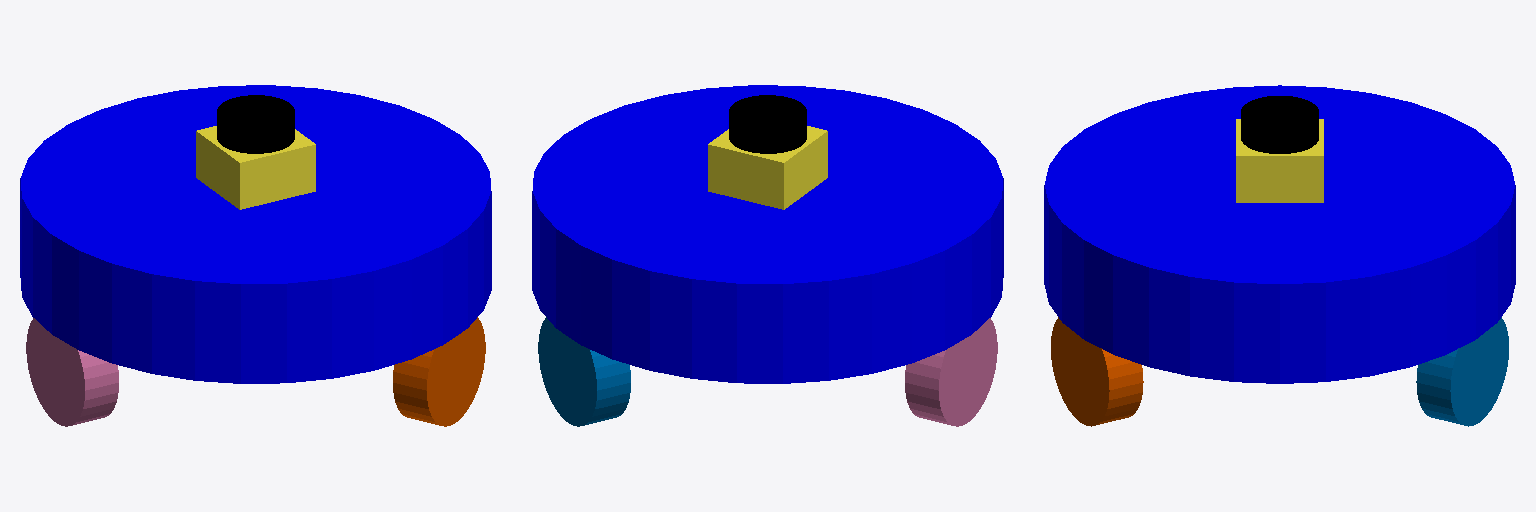
robot.urdf — lilybot:
<?xml version="1.0"?>
<robot name="lilybot">

    <link name="base_footprint"/>

    <link name="base_link">
        <visual>
            <geometry>
                <cylinder radius="0.15" length="0.07"/>
            </geometry>
            <material name="blue">
                <color rgba="0 0 1 1"/>
            </material>
        </visual>
    </link>

    <joint name="base_joint" type="fixed">
        <parent link="base_footprint"/>
        <child link="base_link"/>
        <origin xyz="0 0 0.0976" rpy="0 0 0"/>
    </joint>

    <link name="laser">
        <visual>
            <geometry>
                <cylinder radius="0.025" length="0.018"/>
            </geometry>
            <material name="black">
                <color rgba="0 0 0 1"/>
            </material>
        </visual>
    </link>

    <link name="laser_mount">
        <visual>
            <geometry>
                <box size="0.056 0.056 0.033"/>
            </geometry>
            <material name="grey">
                <color rgba="0.5 0.5 0.5"/>
            </material>
        </visual>
    </link>

    <joint name="laser_mount_joint" type="fixed">
        <parent link="base_link"/>
        <child link="laser_mount"/>
        <origin xyz="0 0 0.05155" rpy="0 0 0"/>
    </joint>

    <joint name="laser_joint" type="fixed">
        <parent link="laser_mount"/>
        <child link="laser"/>
        <origin xyz="0 0 0.02565" rpy="0 0 3.14159"/>
    </joint>

    <link name="wheel_1">
        <visual>
            <geometry>
                <cylinder radius="0.0375" length="0.025"/>
            </geometry>
        </visual>
        <material name="red">
            <color rgba="1 0 0 1"/>
        </material>
    </link>

    <!-- wheel 1 = front left -->
    <joint name="wheel_1_joint" type="continuous">
        <parent link="base_link"/>
        <child link="wheel_1"/>
        <origin xyz="0.06725 0.11648 -0.0601" rpy="1.5708 0 2.61799"/>
    </joint>

    <!-- wheel 2 = front right -->
    <link name="wheel_2">
        <visual>
            <geometry>
                <cylinder radius="0.0375" length="0.025"/>
            </geometry>
        </visual>
        <material name="red">
            <color rgba="1 0 0 1"/>
        </material>
    </link>

    <!-- wheel 3 = back -->
    <joint name="wheel_2_joint" type="continuous">
        <parent link="base_link"/>
        <child link="wheel_2"/>
        <origin xyz="0.06725 -0.11648 -0.0601" rpy="1.5708 0 0.52359"/>
    </joint>

    <link name="wheel_3">
        <visual>
            <geometry>
                <cylinder radius="0.0375" length="0.025"/>
            </geometry>
        </visual>
        <material name="red">
            <color rgba="1 0 0 1"/>
        </material>
    </link>

    <joint name="wheel_3_joint" type="continuous"> 
        <parent link="base_link"/>
        <child link="wheel_3"/>
        <origin xyz="-0.1345 0.0 -0.0601" rpy="1.5708 0 -1.5708"/> 
    </joint>

</robot>

--- Render facts (derived) ---
3 views of the same robot in one strip: view 1: azimuth 30°, elevation 25°; view 2: azimuth 150°, elevation 25°; view 3: azimuth 270°, elevation 25° (orthographic).
Robot: lilybot — 7 links, 6 joints (3 continuous, 3 fixed); root link base_footprint; default pose: all joints at 0.
Visible links, largest first — view 1: base_link, laser_mount, wheel_2, wheel_3, laser; view 2: base_link, laser_mount, wheel_1, wheel_3, laser; view 3: base_link, wheel_1, wheel_2, laser_mount, laser.
Boxes of the visible links, x1=… form: base_link: x1=20, y1=85, x2=491, y2=383; laser_mount: x1=196, y1=126, x2=315, y2=209; wheel_2: x1=393, y1=317, x2=485, y2=426; wheel_3: x1=26, y1=318, x2=118, y2=426; laser: x1=217, y1=95, x2=294, y2=153; base_link: x1=532, y1=85, x2=1003, y2=383; laser_mount: x1=708, y1=126, x2=827, y2=209; wheel_1: x1=538, y1=317, x2=630, y2=426; wheel_3: x1=905, y1=318, x2=997, y2=426; laser: x1=729, y1=95, x2=806, y2=153; base_link: x1=1044, y1=85, x2=1515, y2=383; wheel_1: x1=1416, y1=317, x2=1508, y2=426; wheel_2: x1=1051, y1=317, x2=1143, y2=426; laser_mount: x1=1236, y1=119, x2=1323, y2=202; laser: x1=1241, y1=96, x2=1318, y2=153.
Bounding box of the posed robot: 0.3 × 0.3 × 0.1838 m (x, y, z).
Geometry: primitives only (box / cylinder / sphere), no mesh files.
